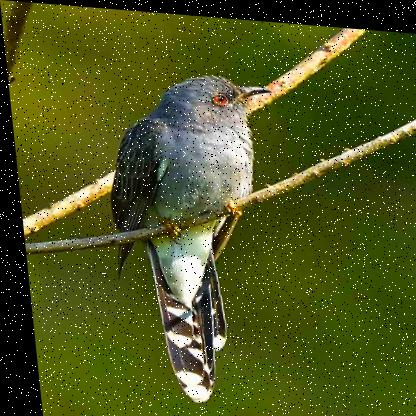Burung: (95, 63, 296, 406)
